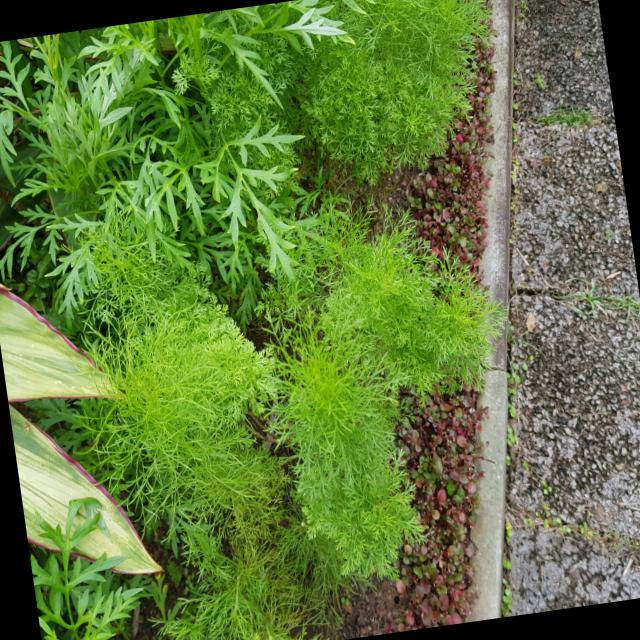Dill: (97, 252, 430, 640)
